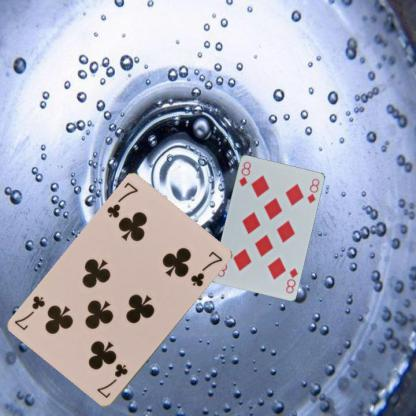7c: (94, 361, 130, 400), (104, 180, 139, 220)
8d: (236, 159, 252, 188), (283, 265, 299, 294)
